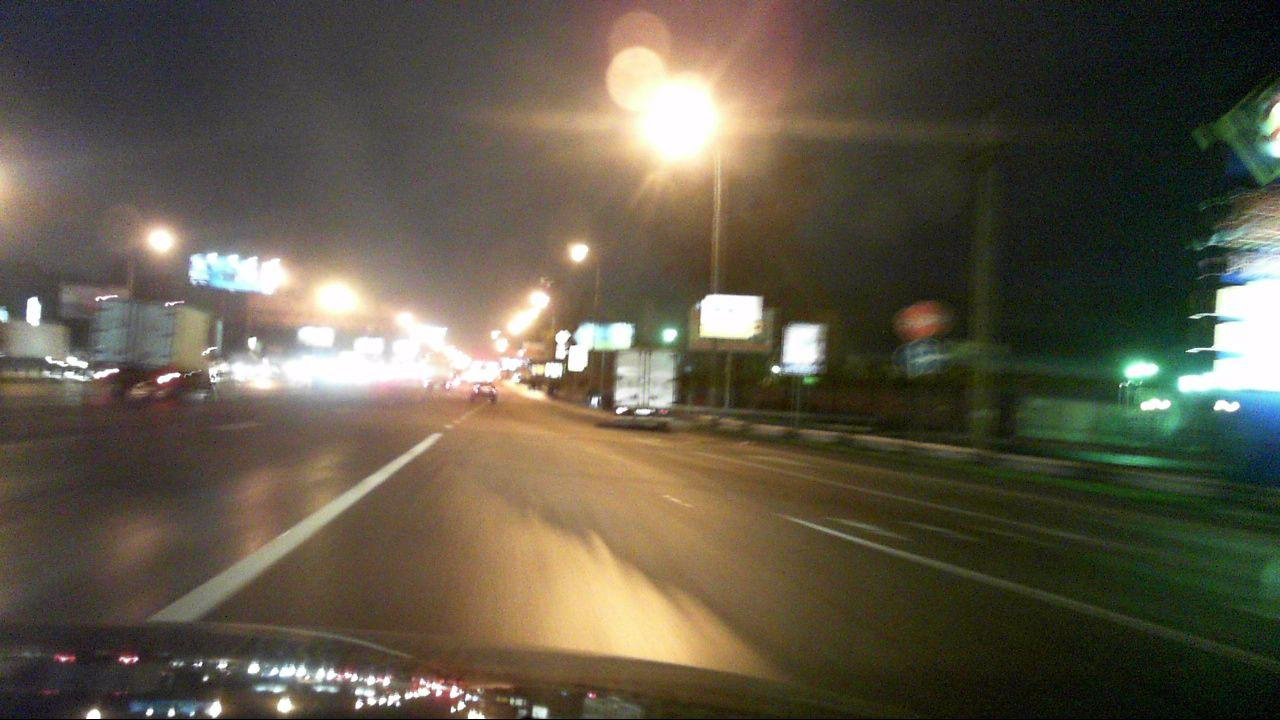2_5: (904, 300, 944, 339)
